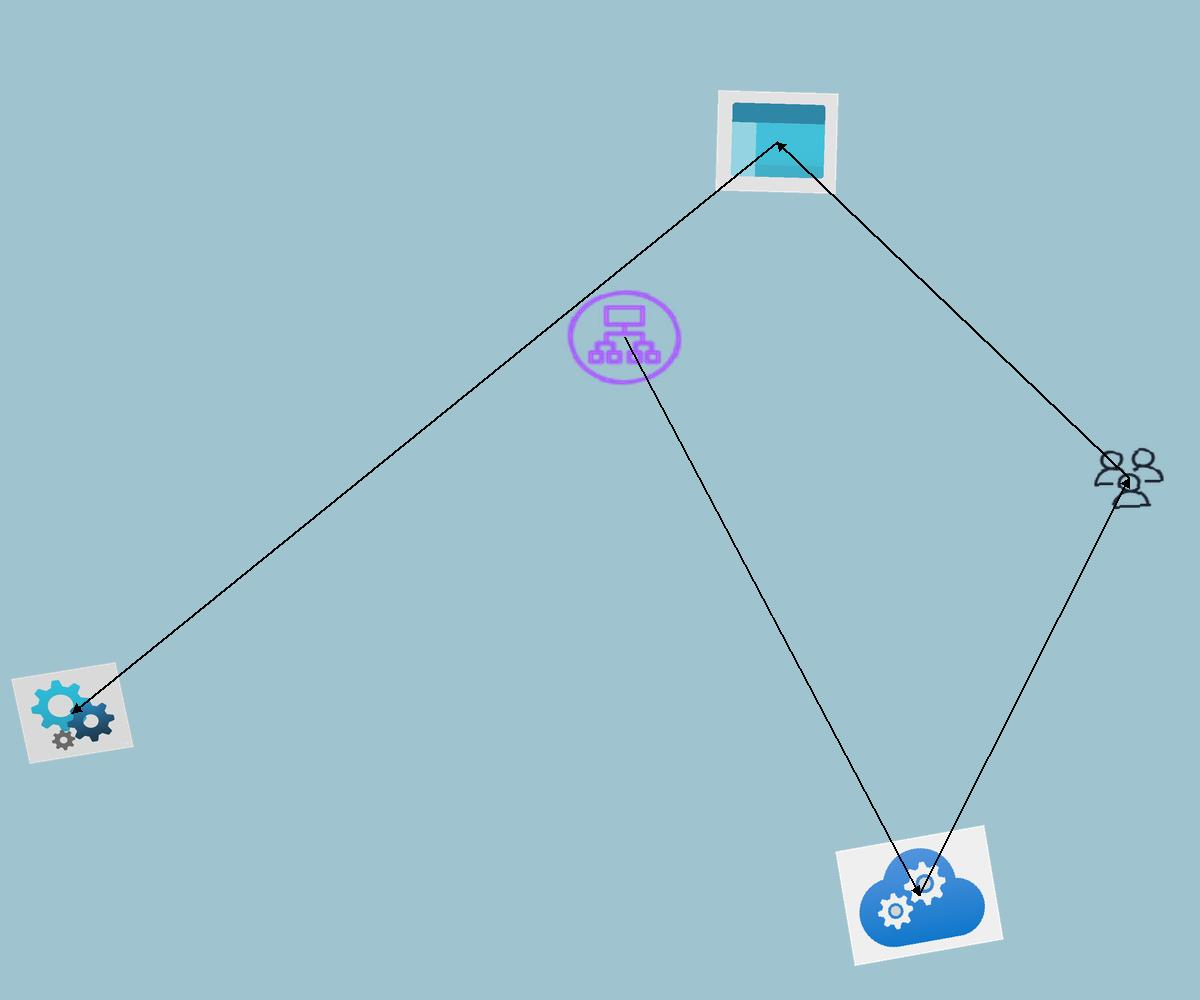AWS-Res_Elastic-Load-Balancing_Application-Load-Balancer: (560, 284, 689, 391)
AWS-Res_Users: (1088, 444, 1170, 513)
Azure_api: (11, 662, 134, 764)
Azure_cloud_services: (835, 825, 1004, 966)
Azure_management-portal: (715, 90, 839, 194)
